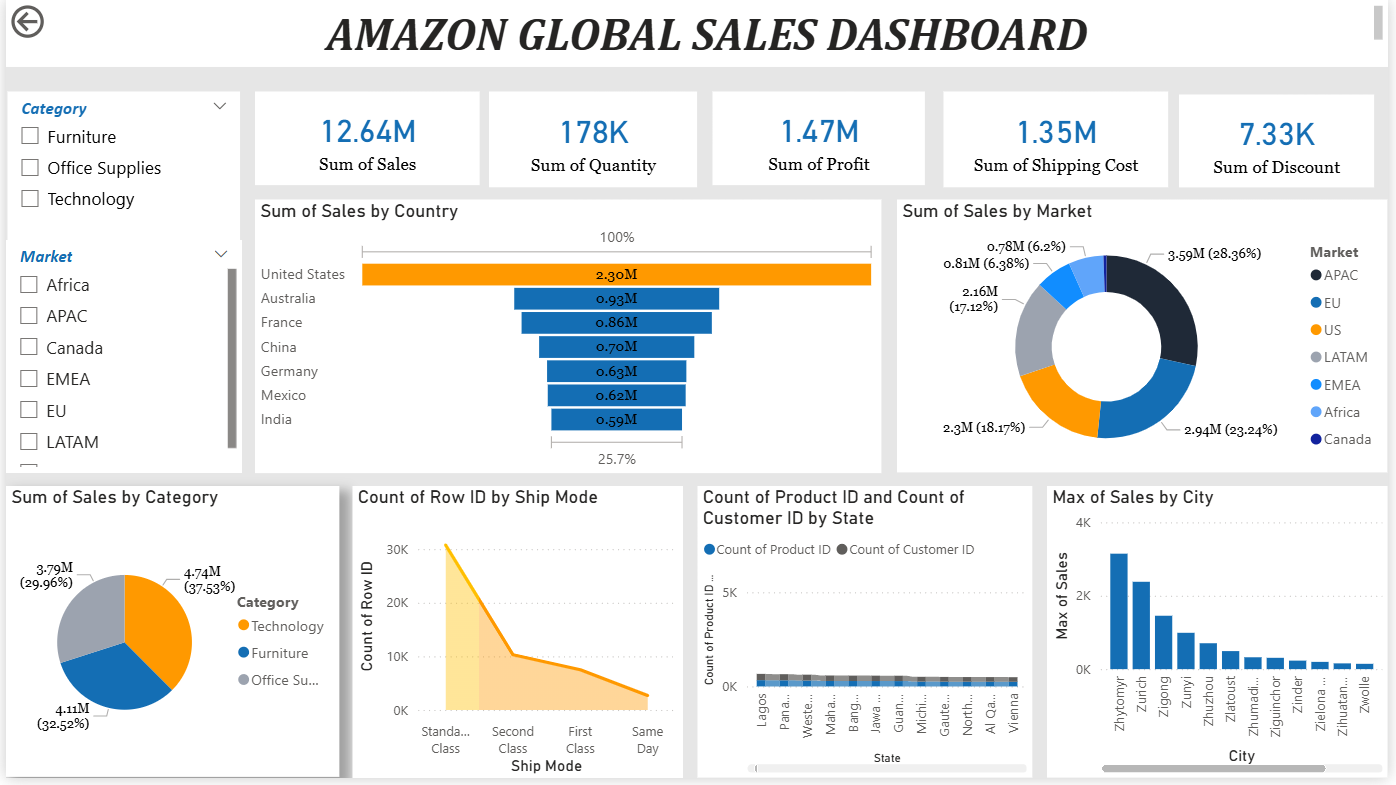

What the dashboard file says about the page in this screenshot:
{"tool":"powerbi","page":{"name":"Page 1","canvas":[1280,720],"ordinal":0},"visuals":[{"type":"pieChart","fields":{"Category":["Orders.Category"],"Y":["Sum(Orders.Sales)"]},"box":[0,449.7,308.9,269.5],"z":0},{"type":"donutChart","fields":{"Category":["Orders.Market"],"Y":["Sum(Orders.Sales)"]},"box":[825.2,184.7,454.3,252.9],"z":1000},{"type":"areaChart","fields":{"Category":["Orders.Ship Mode"],"Y":["CountNonNull(Orders.Row ID)"]},"box":[321,449.7,305.9,271],"z":2000},{"type":"clusteredColumnChart","fields":{"Category":["Orders.City"],"Y":["Max(Orders.Sales)"]},"box":[963.8,449.8,315.6,270.2],"z":3000},{"type":"funnel","fields":{"Category":["Orders.Country"],"Y":["Sum(Orders.Sales)"]},"box":[230.6,185.2,580.2,253.2],"z":4000},{"type":"ribbonChart","fields":{"Category":["Orders.State"],"Y":["CountNonNull(Orders.Product ID)","CountNonNull(Orders.Customer ID)"]},"box":[640.6,449.8,309.9,270.2],"z":5000},{"type":"textbox","box":[0,0,1279.9,61.8],"z":6000},{"type":"card","fields":{"Values":["Sum(Orders.Sales)"]},"box":[230.6,85,207.9,86.9],"z":7000},{"type":"actionButton","box":[0,0,100,40],"z":8000},{"type":"card","fields":{"Values":["Sum(Orders.Quantity)"]},"box":[447.9,85,192.8,88.8],"z":9000},{"type":"card","fields":{"Values":["Sum(Orders.Profit)"]},"box":[653.9,85,196.5,86.9],"z":10000},{"type":"card","fields":{"Values":["Sum(Orders.Shipping Cost)"]},"box":[867.4,85,207.9,88.8],"z":11000},{"type":"slicer","fields":{"Values":["Orders.Category"]},"box":[1.9,85,215.4,138],"z":12000},{"type":"slicer","fields":{"Values":["Orders.Market"]},"box":[0,222.6,218,215],"z":13000},{"type":"card","fields":{"Values":["Sum(Orders.Discount)"]},"box":[1086.6,87.6,180.4,86.3],"z":14000}]}

Visuals, with their boxes in screenshot pixels (x1, y1, x2, y2), scaled from the page's 1280x720 canvas onto the 1396x785 screenshot:
pieChart - Orders.Category x Sum(Orders.Sales): bbox(0, 490, 337, 784)
donutChart - Orders.Market x Sum(Orders.Sales): bbox(900, 201, 1395, 477)
areaChart - Orders.Ship Mode x CountNonNull(Orders.Row ID): bbox(350, 490, 684, 784)
clusteredColumnChart - Orders.City x Max(Orders.Sales): bbox(1051, 490, 1395, 784)
funnel - Orders.Country x Sum(Orders.Sales): bbox(251, 202, 884, 478)
ribbonChart - Orders.State x CountNonNull(Orders.Product ID): bbox(699, 490, 1037, 784)
textbox: bbox(0, 0, 1395, 67)
card - Sum(Orders.Sales): bbox(251, 93, 478, 187)
actionButton: bbox(0, 0, 109, 44)
card - Sum(Orders.Quantity): bbox(488, 93, 699, 189)
card - Sum(Orders.Profit): bbox(713, 93, 927, 187)
card - Sum(Orders.Shipping Cost): bbox(946, 93, 1173, 189)
slicer - Orders.Category: bbox(2, 93, 237, 243)
slicer - Orders.Market: bbox(0, 243, 238, 477)
card - Sum(Orders.Discount): bbox(1185, 96, 1382, 190)
